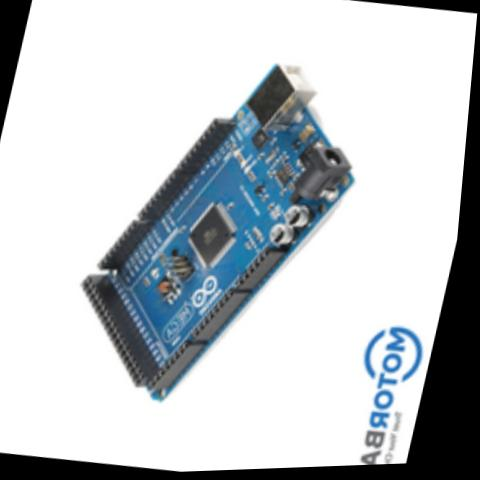Arduino-Mega: (42, 24, 395, 445)
